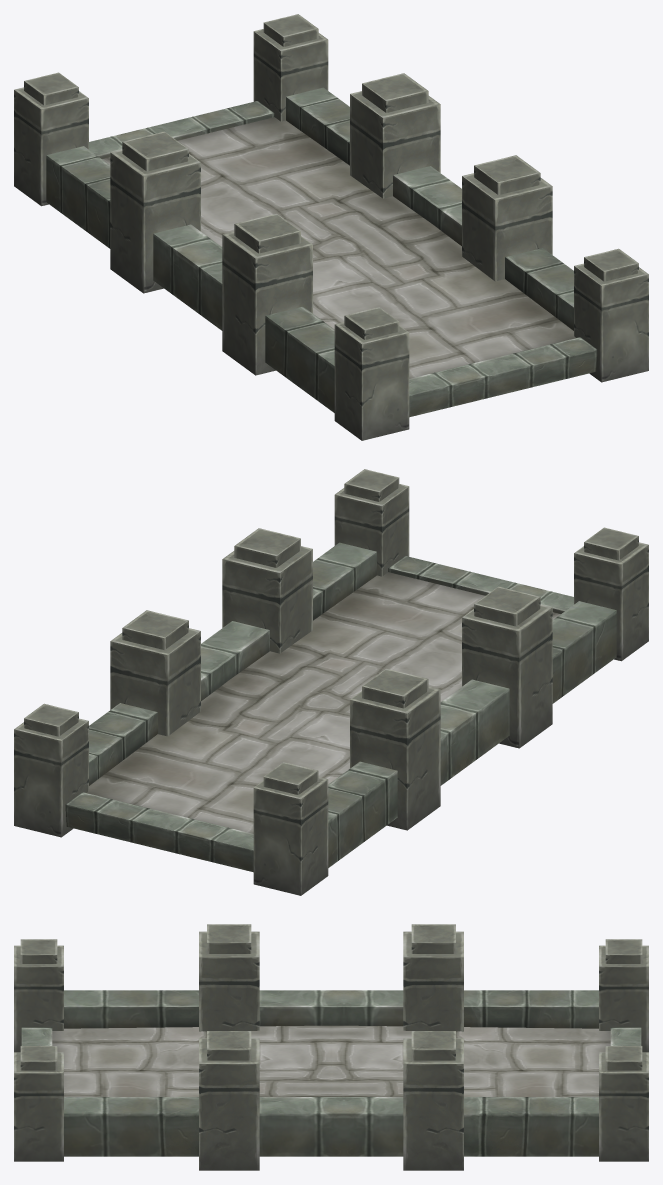
Rendered from bridge_04c.fbx.
3 views of the same model, one above another, from view 1: azimuth 30°, elevation 25°; view 2: azimuth 150°, elevation 25°; view 3: azimuth 270°, elevation 25° (orthographic). The views are drawn at different scales.
Visible parts, largest first — view 1: bridge_04cMesh; view 2: bridge_04cMesh; view 3: bridge_04cMesh.
Part boxes in pixels (bbox=[...]): bridge_04cMesh: bbox=[14, 14, 648, 440]; bridge_04cMesh: bbox=[14, 469, 648, 895]; bridge_04cMesh: bbox=[14, 924, 648, 1170].
Size of the model in its own units: 2.98 by 1.23 by 6.04.
